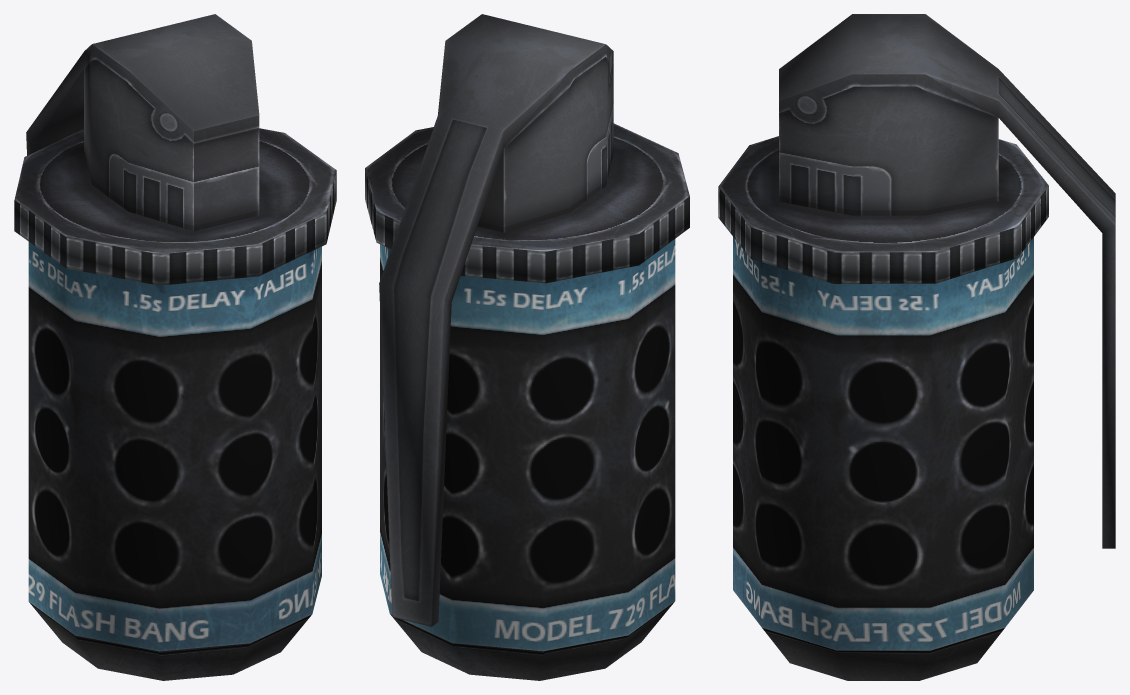
Rendered from flash_grenade.fbx.
3 renders of one model, left to right at view 1: azimuth 30°, elevation 25°; view 2: azimuth 150°, elevation 25°; view 3: azimuth 270°, elevation 25°, orthographic.
Visible parts, largest first — view 1: flash_grenade; view 2: flash_grenade; view 3: flash_grenade.
Part boxes in pixels (x1,y1,x2,y2): flash_grenade: (14,14,336,680); flash_grenade: (365,14,689,680); flash_grenade: (718,14,1115,680).
Size of the model in its own units: 1.71 by 3.7 by 2.16.
